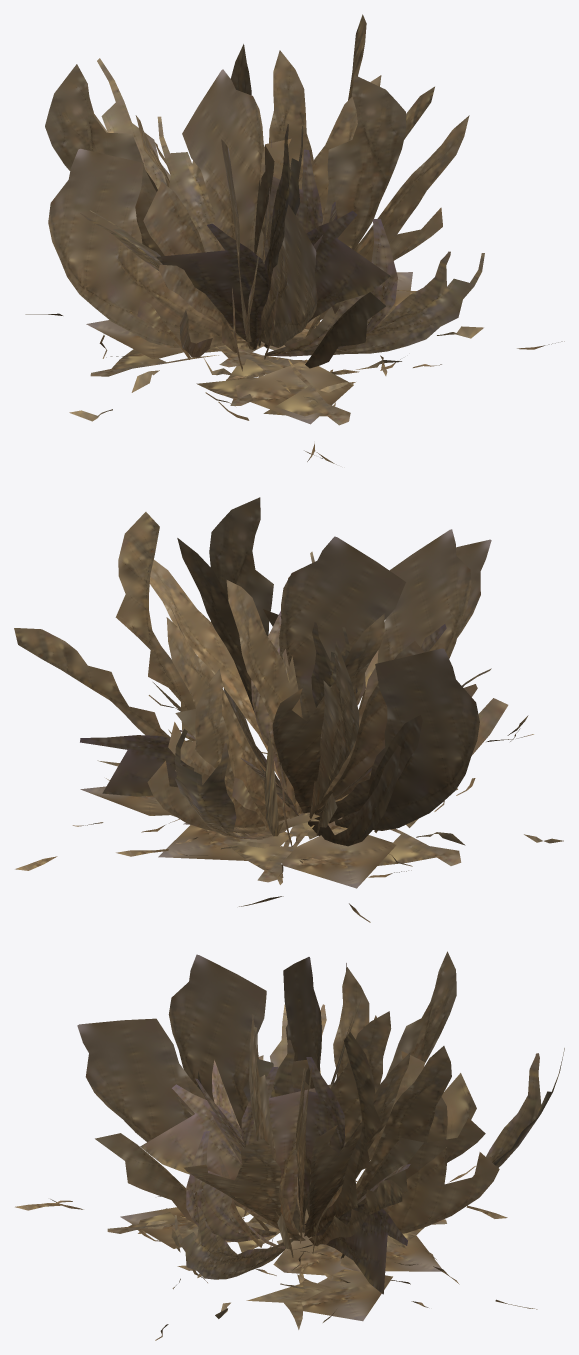
Rendered from SM_Weed_6.fbx.
The picture shows the model from 3 angles, top to bottom: view 1: azimuth 30°, elevation 25°; view 2: azimuth 150°, elevation 25°; view 3: azimuth 270°, elevation 25°; orthographic projection. The views are drawn at different scales.
Parts seen in each view (by area): view 1: SM_Weed_6_LOD0; view 2: SM_Weed_6_LOD0; view 3: SM_Weed_6_LOD0.
Part boxes in pixels (x1,y1,x2,y2): SM_Weed_6_LOD0: (25, 14, 564, 464); SM_Weed_6_LOD0: (14, 497, 563, 922); SM_Weed_6_LOD0: (15, 951, 564, 1340).
Size of the model in its own units: 73.78 by 82.47 by 45.11.
Materials: 1 (1 with a texture image).
